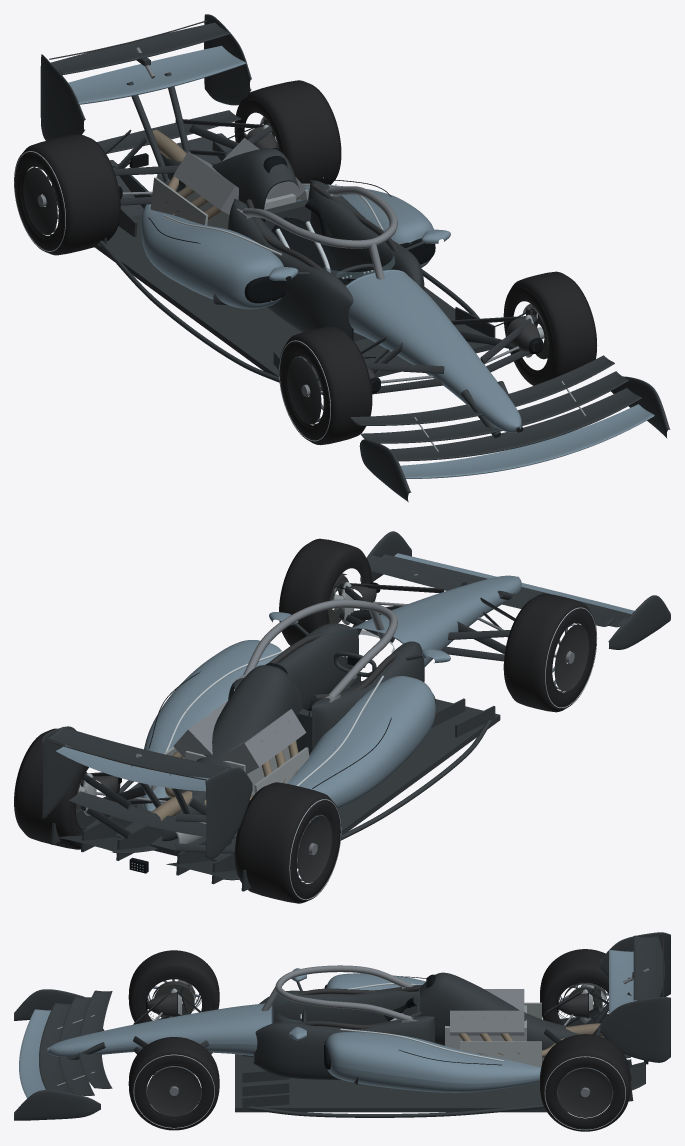
File: f1-educational.glb
3 views of the same model, one above another, from view 1: azimuth 30°, elevation 25°; view 2: azimuth 150°, elevation 25°; view 3: azimuth 270°, elevation 25° (orthographic). The views are drawn at different scales.
Parts seen in each view (by area): view 1: f1_front_wing_surface (×2), f1_body_surface (×3), f1_rear_wing_surface (×2), f1_floor_surface, f1_cell_surface (×2), f1_tire_rr_surface, f1_tire_fr_surface, f1_tire_rl_surface, f1_tire_fl_surface, f1_suspension_surface, f1_power_surface (×2), f1_halo_surface (+6 smaller); view 2: f1_body_surface (×3), f1_rear_wing_surface (×2), f1_front_wing_surface (×2), f1_floor_surface, f1_tire_rr_surface, f1_cell_surface (×2), f1_tire_fr_surface, f1_tire_fl_surface, f1_suspension_surface, f1_power_surface (×2), f1_tire_rl_surface, f1_halo_surface (+5 smaller); view 3: f1_front_wing_surface (×2), f1_body_surface (×4), f1_floor_surface, f1_cell_surface (×2), f1_rear_wing_surface (×2), f1_tire_rl_surface (×2), f1_tire_fl_surface, f1_tire_fr_surface, f1_power_surface (×2), f1_tire_rr_surface, f1_halo_surface, wheel_cover_fl_surface (+6 smaller).
Part boxes in pixels (left/top/right/bottom): f1_front_wing_surface (×2): left=346, top=269, right=670, bottom=502; f1_body_surface (×3): left=141, top=148, right=450, bottom=309; f1_rear_wing_surface (×2): left=40, top=14, right=251, bottom=181; f1_floor_surface: left=52, top=133, right=495, bottom=391; f1_cell_surface (×2): left=228, top=180, right=424, bottom=341; f1_tire_rr_surface: left=14, top=134, right=120, bottom=255; f1_tire_fr_surface: left=279, top=326, right=372, bottom=445; f1_tire_rl_surface: left=234, top=80, right=341, bottom=184; f1_tire_fl_surface: left=503, top=271, right=597, bottom=385; f1_suspension_surface: left=105, top=119, right=536, bottom=394; f1_power_surface (×2): left=156, top=138, right=305, bottom=229; f1_halo_surface: left=236, top=186, right=397, bottom=279; f1_body_surface (×3): left=141, top=612, right=450, bottom=841; f1_rear_wing_surface (×2): left=42, top=726, right=252, bottom=859; f1_front_wing_surface (×2): left=349, top=531, right=670, bottom=666; f1_floor_surface: left=51, top=675, right=500, bottom=891; f1_tire_rr_surface: left=234, top=782, right=341, bottom=903; f1_cell_surface (×2): left=228, top=623, right=424, bottom=754; f1_tire_fr_surface: left=503, top=593, right=597, bottom=712; f1_tire_fl_surface: left=279, top=538, right=372, bottom=645; f1_suspension_surface: left=81, top=582, right=515, bottom=853; f1_power_surface (×2): left=173, top=700, right=306, bottom=851; f1_tire_rl_surface: left=14, top=728, right=120, bottom=849; f1_halo_surface: left=236, top=599, right=397, bottom=702; f1_front_wing_surface (×2): left=14, top=989, right=273, bottom=1120; f1_body_surface (×4): left=289, top=968, right=605, bottom=1092; f1_floor_surface: left=235, top=1013, right=645, bottom=1117; f1_cell_surface (×2): left=253, top=985, right=434, bottom=1079; f1_rear_wing_surface (×2): left=592, top=932, right=670, bottom=1062; f1_tire_rl_surface (×2): left=540, top=1034, right=630, bottom=1131; f1_tire_fl_surface: left=128, top=1037, right=219, bottom=1130; f1_tire_fr_surface: left=128, top=950, right=219, bottom=1023; f1_power_surface (×2): left=445, top=989, right=544, bottom=1063; f1_tire_rr_surface: left=540, top=949, right=608, bottom=1024; f1_halo_surface: left=261, top=965, right=418, bottom=1022; wheel_cover_fl_surface: left=147, top=1067, right=201, bottom=1116.
Bounding box in the file's own units: 2.03 × 1.04 × 5.29.
